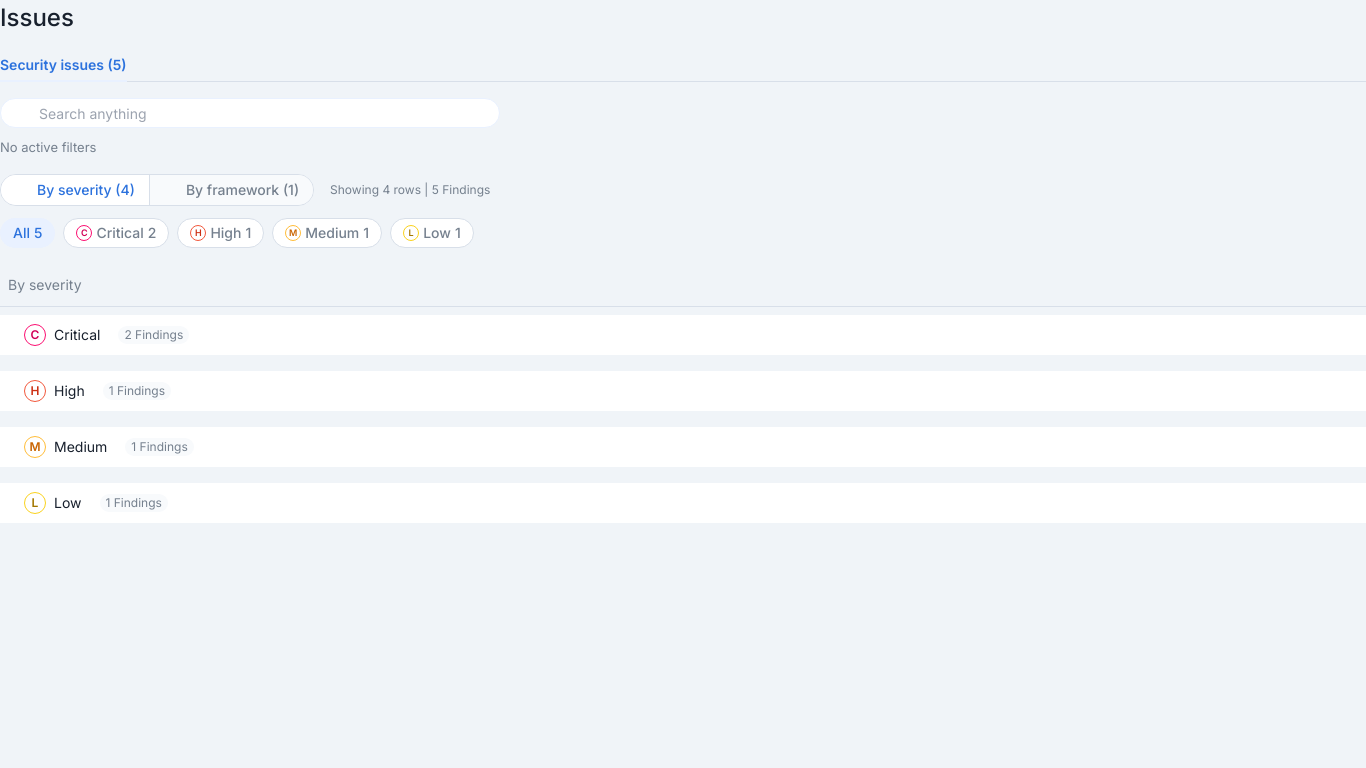
Test: IssuesTab — drawer open path › a rejected loadDetail still opens the drawer empty state
Click the button named "High1" at (221, 232), box [177,218,264,248]
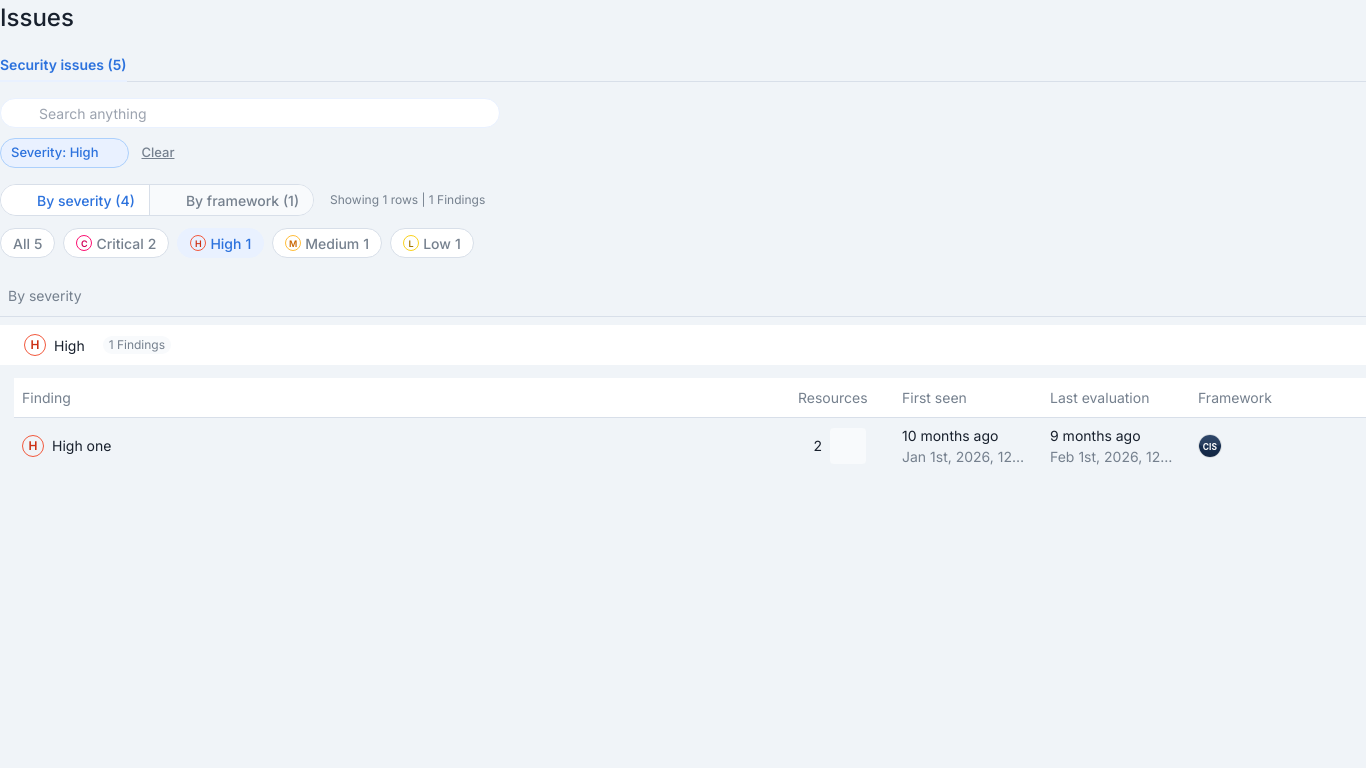
Click the button "High one" at (82, 446), box [14,418,1365,474]
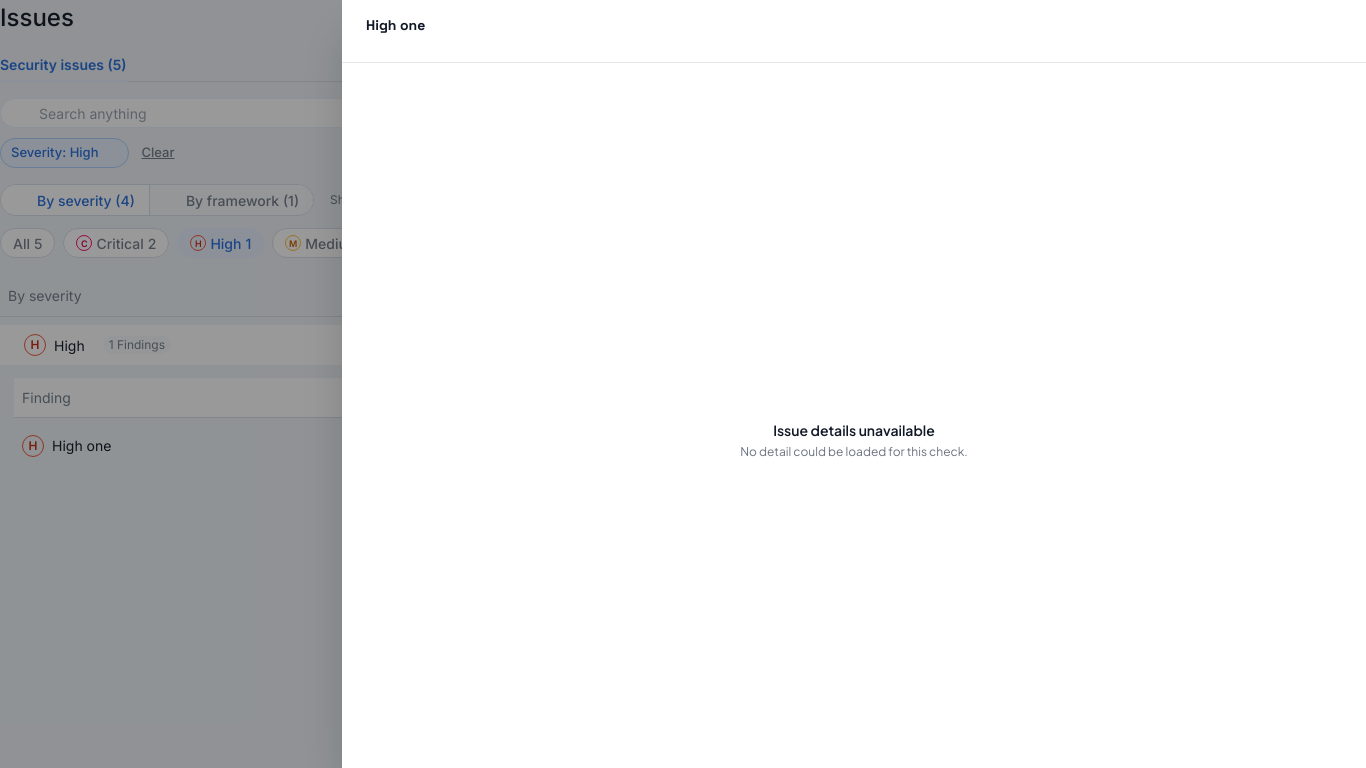
Check: the text "Issue details unavailable" is shown, box [773,420,935,438]
